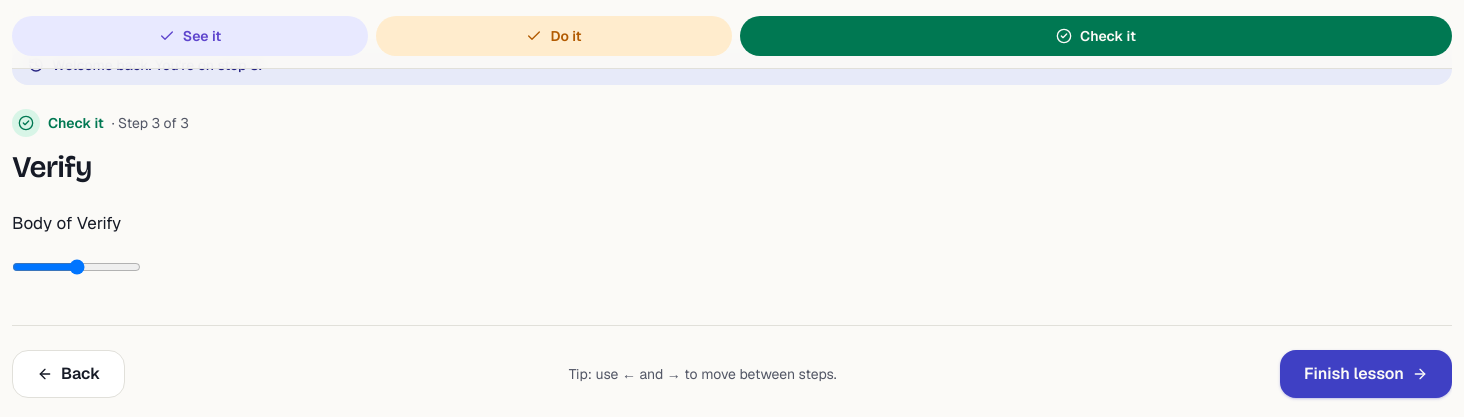
LessonDeck › picks up an unfinished lesson where it was left
Check: the heading reads "Verify", box 12,149 -> 92,185
Check: the text "Welcome back. You're on step 3." is shown, box 12,45 -> 1452,85
# The note goes once the learner moves on.
What coordinates should you click on to do the following:
click the button "Back"
I would click on:
 (69, 374)
Its box is 12,350 -> 125,398.
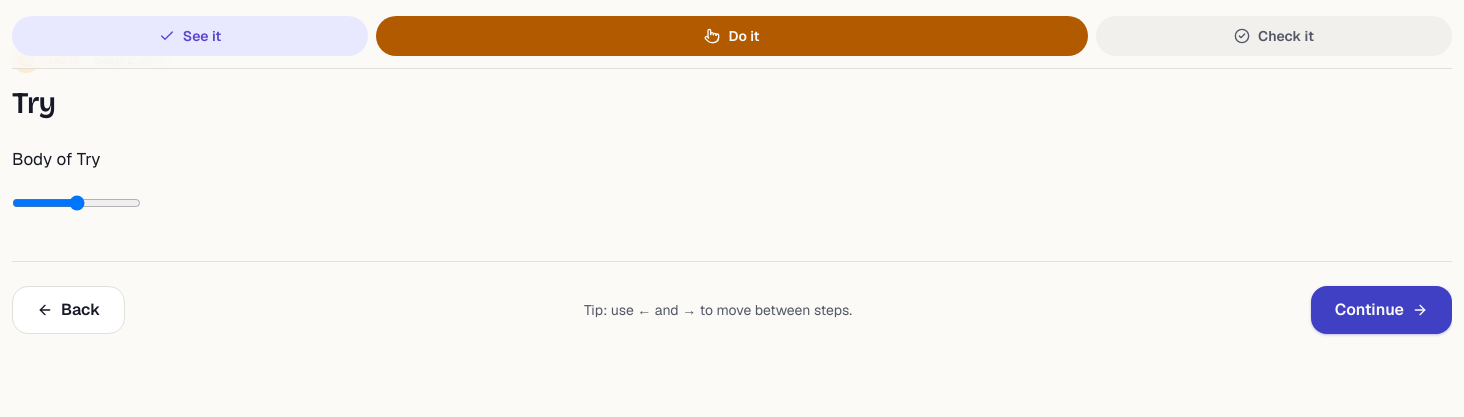
Check: the text "Welcome back" is gone
